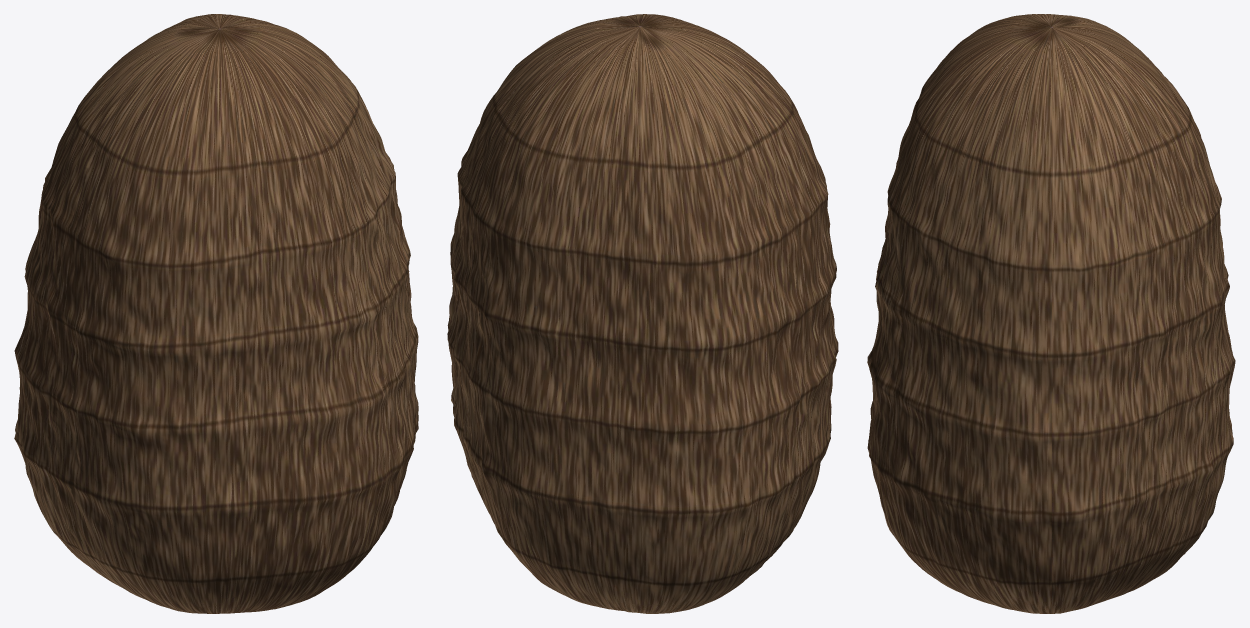
File: songe.glb
3 renders of one model, left to right at view 1: azimuth 30°, elevation 25°; view 2: azimuth 150°, elevation 25°; view 3: azimuth 270°, elevation 25°, orthographic.
Visible parts, largest first — view 1: entier_peau, moitie_A_peau, moitie_B_peau; view 2: entier_peau, moitie_B_peau, moitie_A_peau; view 3: entier_peau, moitie_A_peau, moitie_B_peau.
Part boxes in pixels (left/top/right/bottom): entier_peau: left=16, top=16, right=418, bottom=613; moitie_A_peau: left=52, top=26, right=418, bottom=613; moitie_B_peau: left=14, top=14, right=305, bottom=577; entier_peau: left=447, top=14, right=838, bottom=613; moitie_B_peau: left=448, top=26, right=806, bottom=613; moitie_A_peau: left=562, top=14, right=838, bottom=561; entier_peau: left=867, top=14, right=1235, bottom=613; moitie_A_peau: left=867, top=14, right=1051, bottom=613; moitie_B_peau: left=1052, top=14, right=1233, bottom=612.
Size of the model in its own units: 0.097 by 0.15 by 0.0884.
2 materials, 2 textured.
